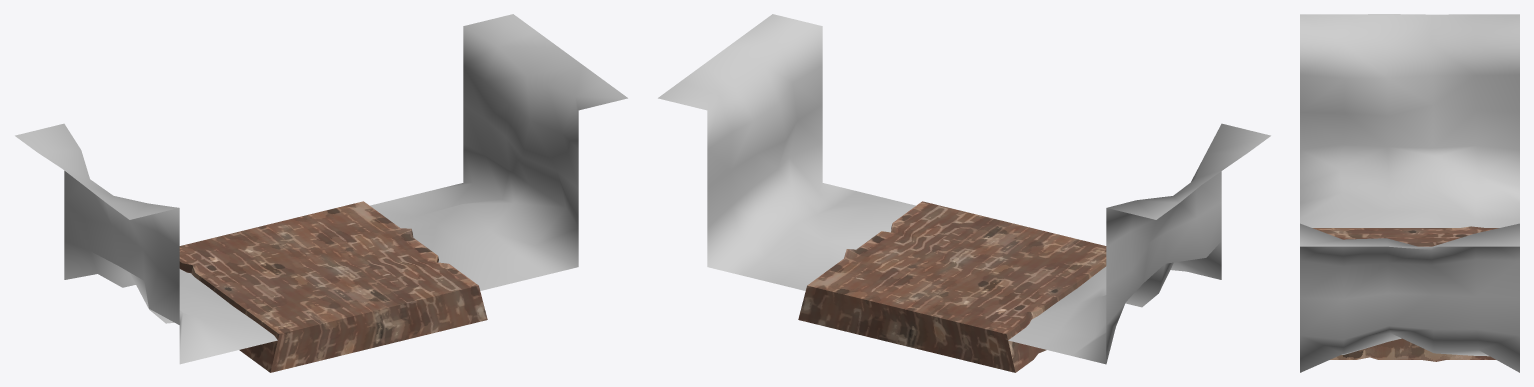
The model's file is tile_natural1.fbx.
The picture shows the model from 3 angles, left to right: view 1: azimuth 30°, elevation 25°; view 2: azimuth 150°, elevation 25°; view 3: azimuth 270°, elevation 25°; orthographic projection. The views are drawn at different scales.
Parts seen in each view (by area): view 1: tilenatural1; view 2: tilenatural1; view 3: tilenatural1.
Part boxes in pixels (x1,y1,x2,y2): tilenatural1: [15, 14, 627, 372]; tilenatural1: [658, 14, 1270, 372]; tilenatural1: [1300, 14, 1519, 372].
Size of the model in its own units: 5000 by 2000 by 1799.
